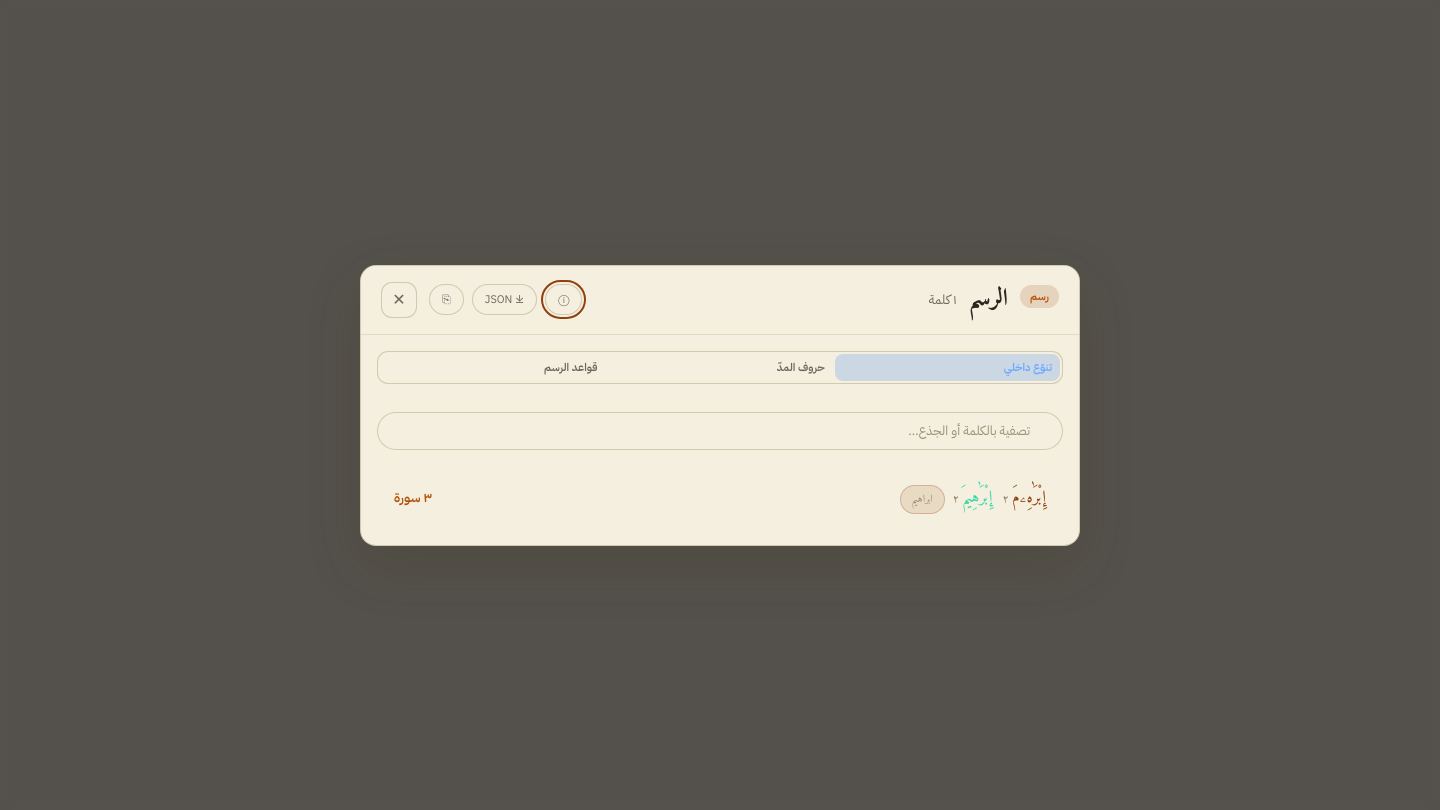
RasmLabModal › opens a word's profile on click WITHOUT an infinite render loop (regression: React #301)
// clicking a catalogue row used to crash via useReveal reset-on-unstable-key
Click the button with class "ag-modal-row". click: (1029, 498)
box: [377,470,1063,526]
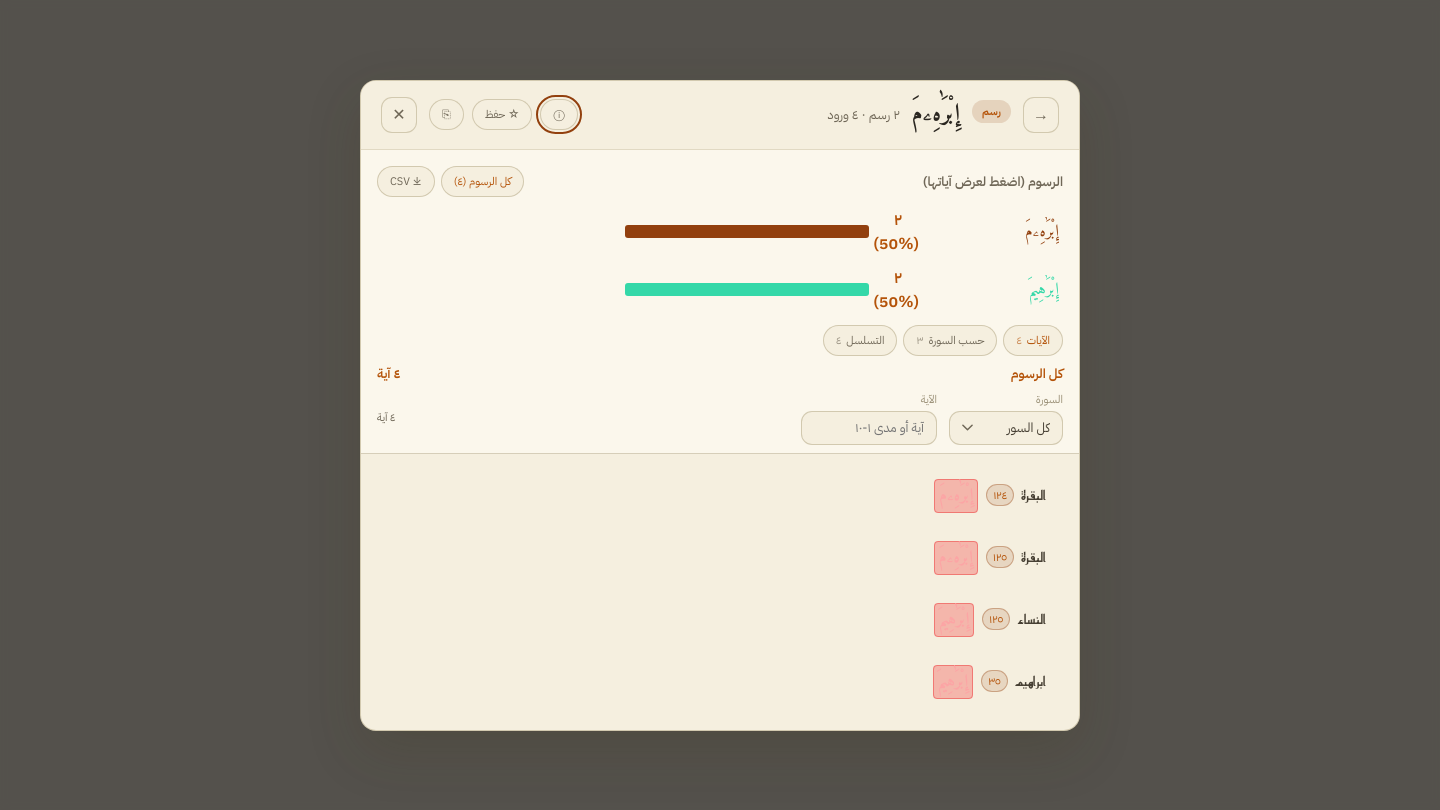
Now the text "%" is shown, box [874,232,914,256]
Now the element with class "ag-dist-bars" is shown, box [377,204,1063,316]
